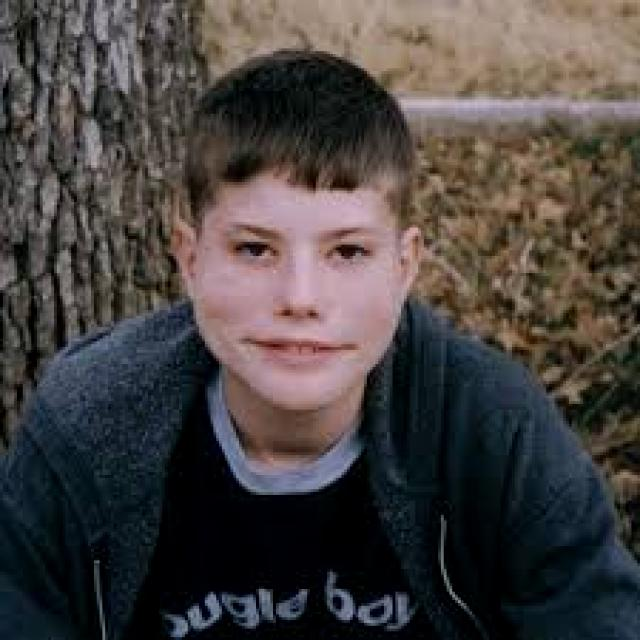normal_face: (202, 94, 411, 412)
